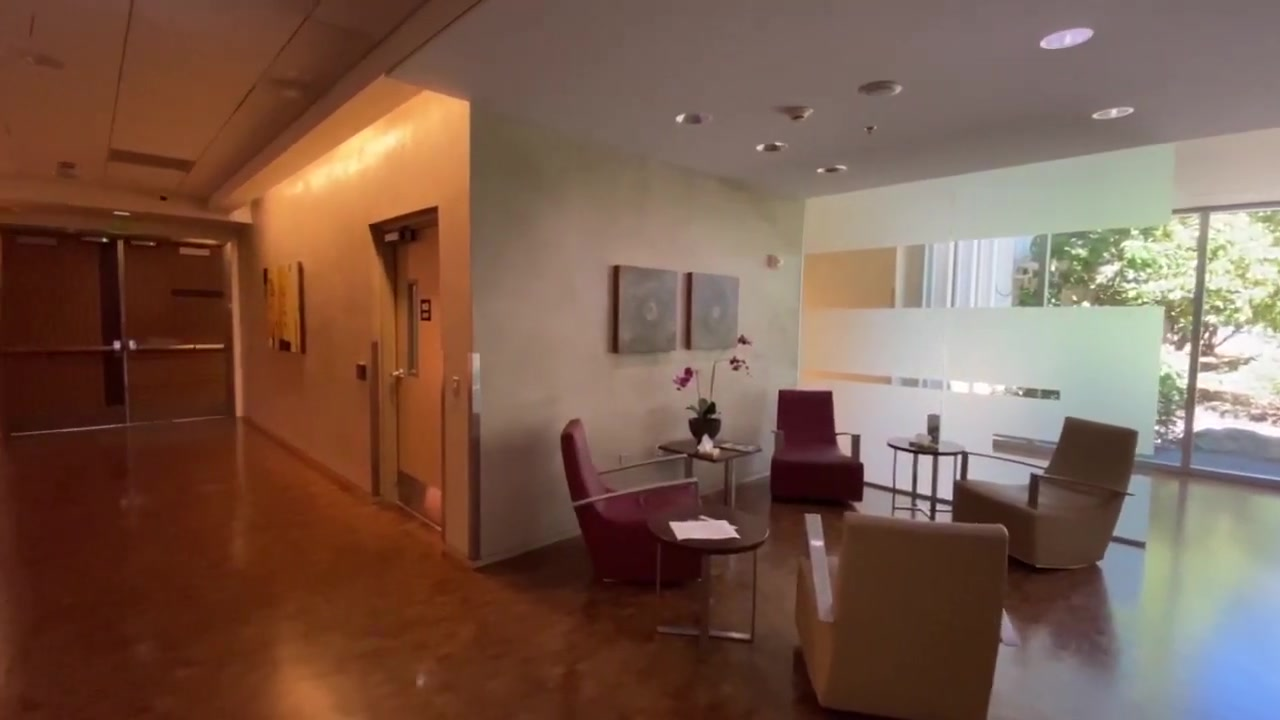door_handle: (389, 368, 405, 380)
push_latch: (1, 337, 121, 353), (126, 337, 225, 351)
sofa: (794, 513, 1020, 720), (952, 416, 1140, 570), (559, 418, 704, 585), (769, 389, 864, 502)
table: (648, 503, 770, 663), (656, 436, 763, 510), (886, 435, 967, 521)
